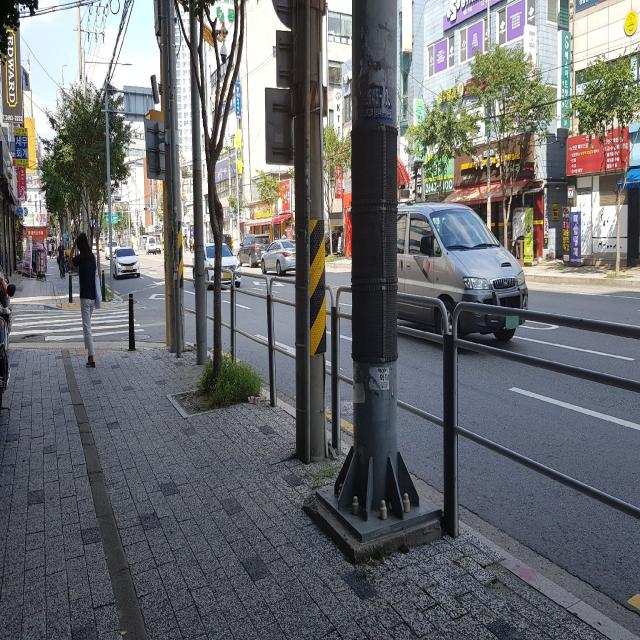횡단보도: (9, 306, 145, 341)
